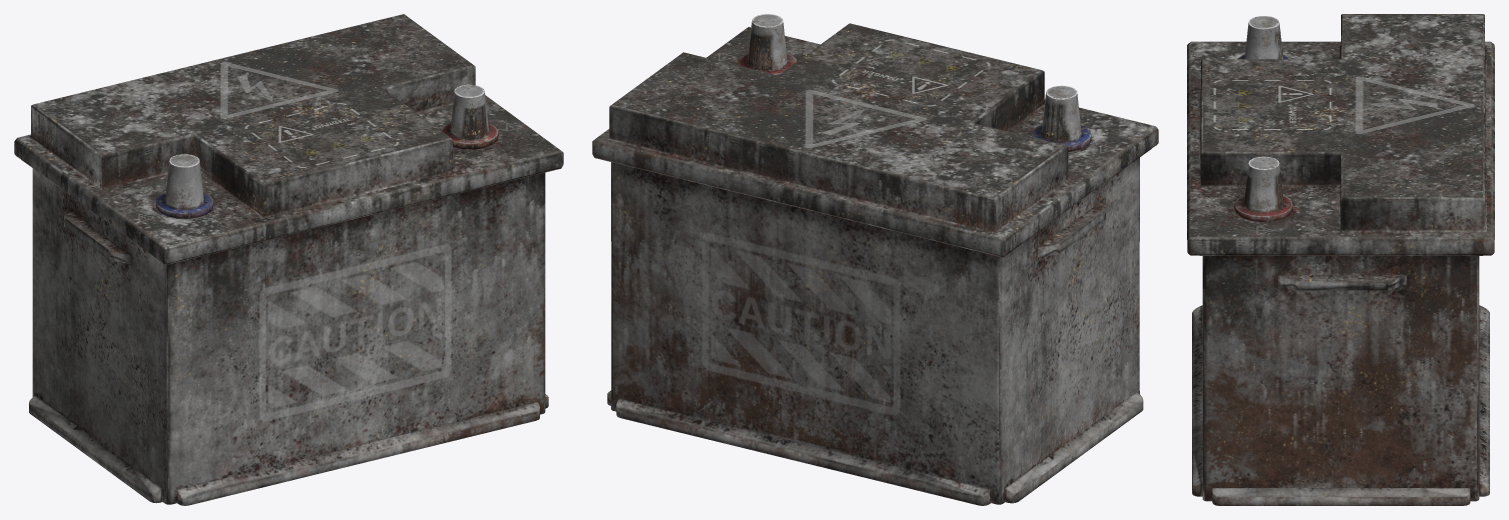
File: carbattery.glb
3 views of the same model, side by side, from view 1: azimuth 30°, elevation 25°; view 2: azimuth 150°, elevation 25°; view 3: azimuth 270°, elevation 25° (orthographic). The views are drawn at different scales.
Parts seen in each view (by area): view 1: batt_low; view 2: batt_low; view 3: batt_low.
Part boxes in pixels (left/top/right/bottom): batt_low: left=14, top=14, right=563, bottom=505; batt_low: left=592, top=14, right=1158, bottom=505; batt_low: left=1187, top=14, right=1494, bottom=505.
Size of the model in its own units: 2 by 1.48 by 1.31.
1 material, 1 textured.
